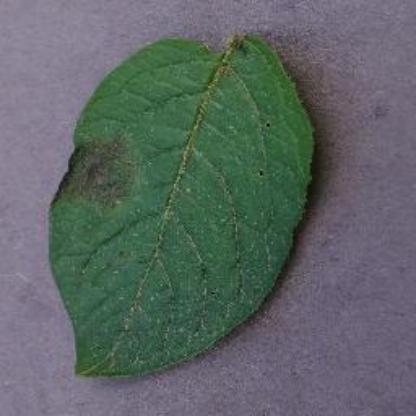Late-Blight: (20, 29, 346, 408)
